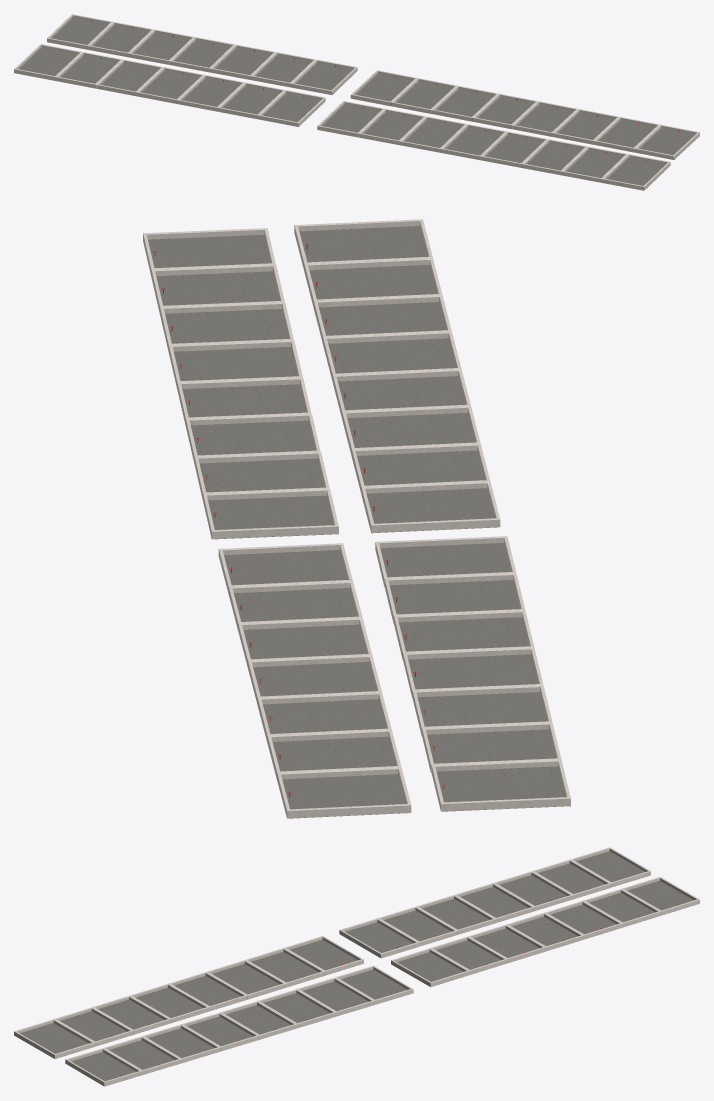
File: Bassin_de_sechage.glb
3 views of the same model, one above another, from view 1: azimuth 30°, elevation 25°; view 2: azimuth 150°, elevation 25°; view 3: azimuth 270°, elevation 25° (orthographic). The views are drawn at different scales.
Visible parts, largest first — view 1: Bassin de séchage - contenu, Bassin de séchage - parois; view 2: Bassin de séchage - contenu, Bassin de séchage - parois; view 3: Bassin de séchage - contenu, Bassin de séchage - parois.
Part boxes in pixels (<box>): Bassin de séchage - contenu: <box>19,17,694,185</box>; Bassin de séchage - parois: <box>14,14,699,190</box>; Bassin de séchage - contenu: <box>148,226,565,809</box>; Bassin de séchage - parois: <box>143,219,570,818</box>; Bassin de séchage - contenu: <box>20,851,693,1081</box>; Bassin de séchage - parois: <box>14,847,699,1086</box>.
Bounding box in the file's own units: 119 × 1 × 147.
Materials: 3 (3 with a texture image).
